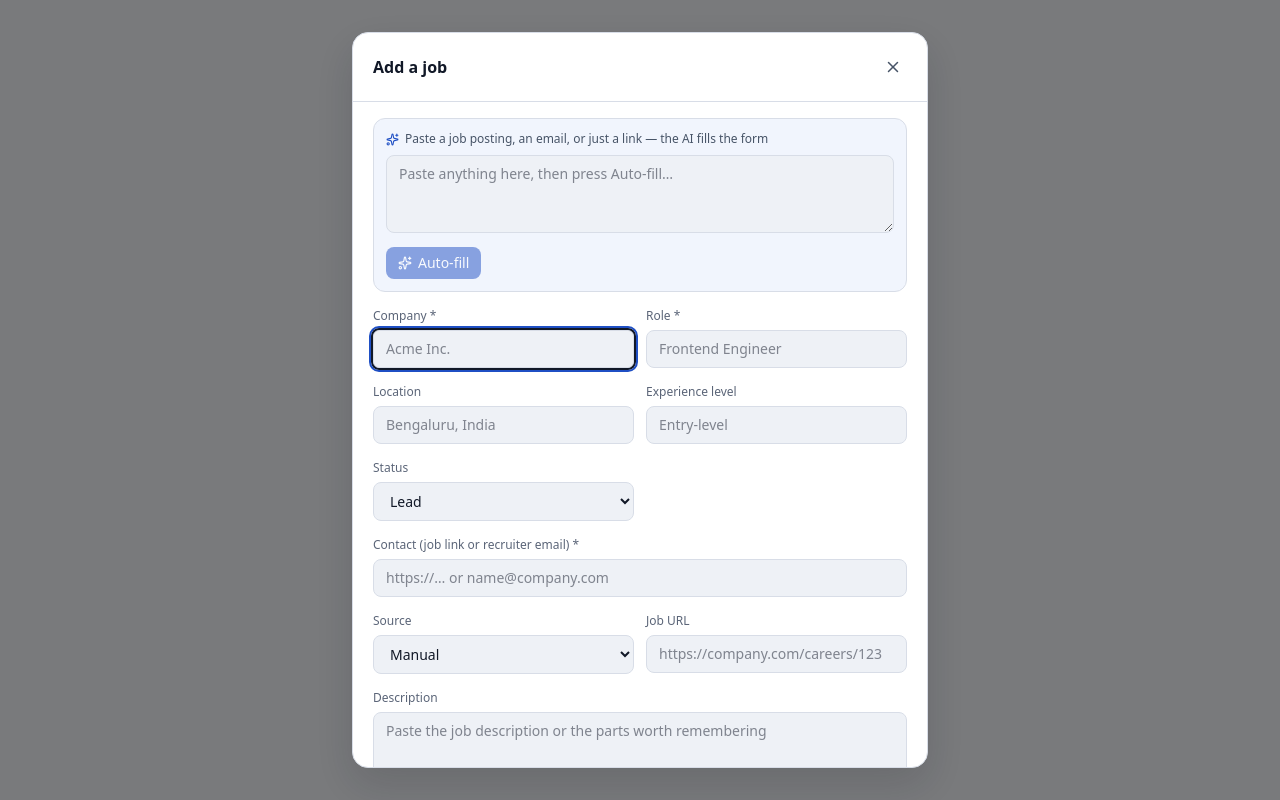
it: Add a job: a new lead needs a company, a role and a link or email › refuses a Job URL that is not a full link (the database would reject it)
This screenshot has width=1280, height=800.
Type "Acme" into the field with placeholder "Acme Inc." at (504, 349), box [373,330,634,368]
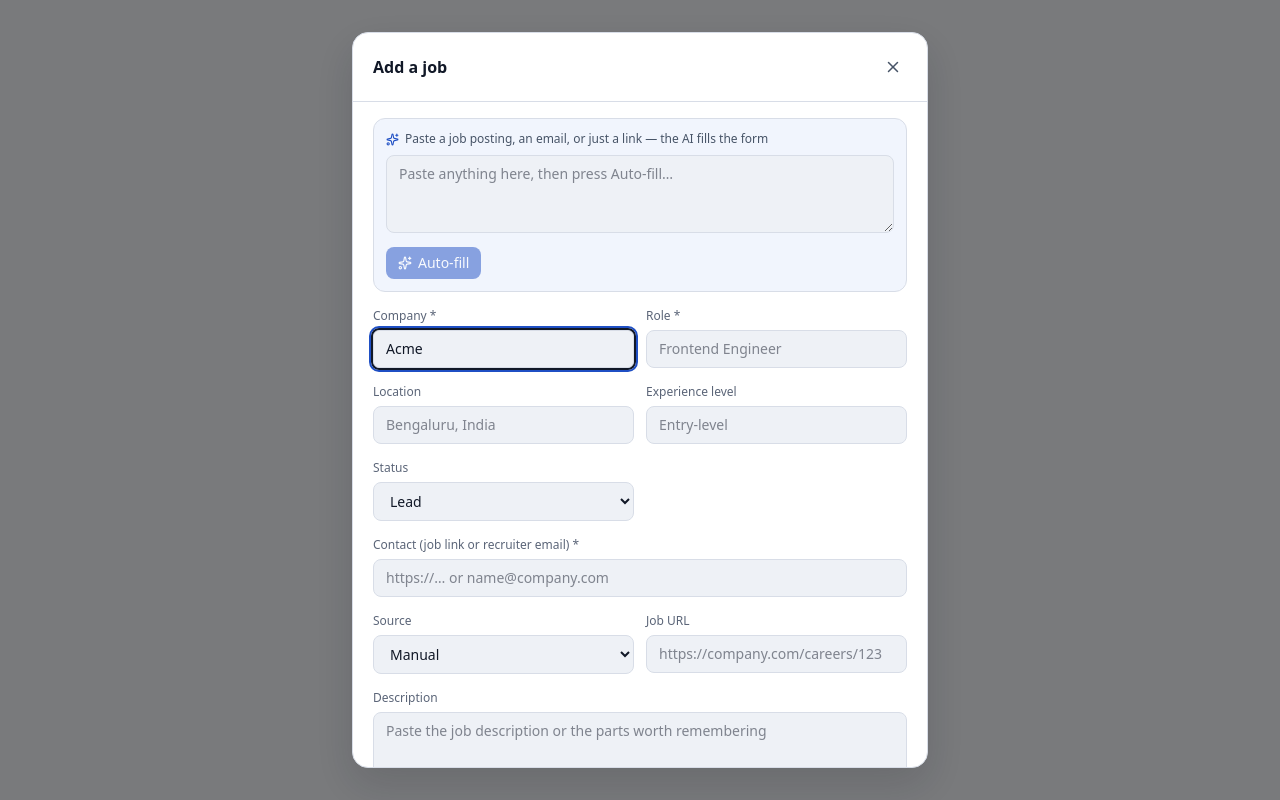
Type "Dev" into the field with placeholder "Frontend Engineer" at (776, 349), box [646,330,907,368]
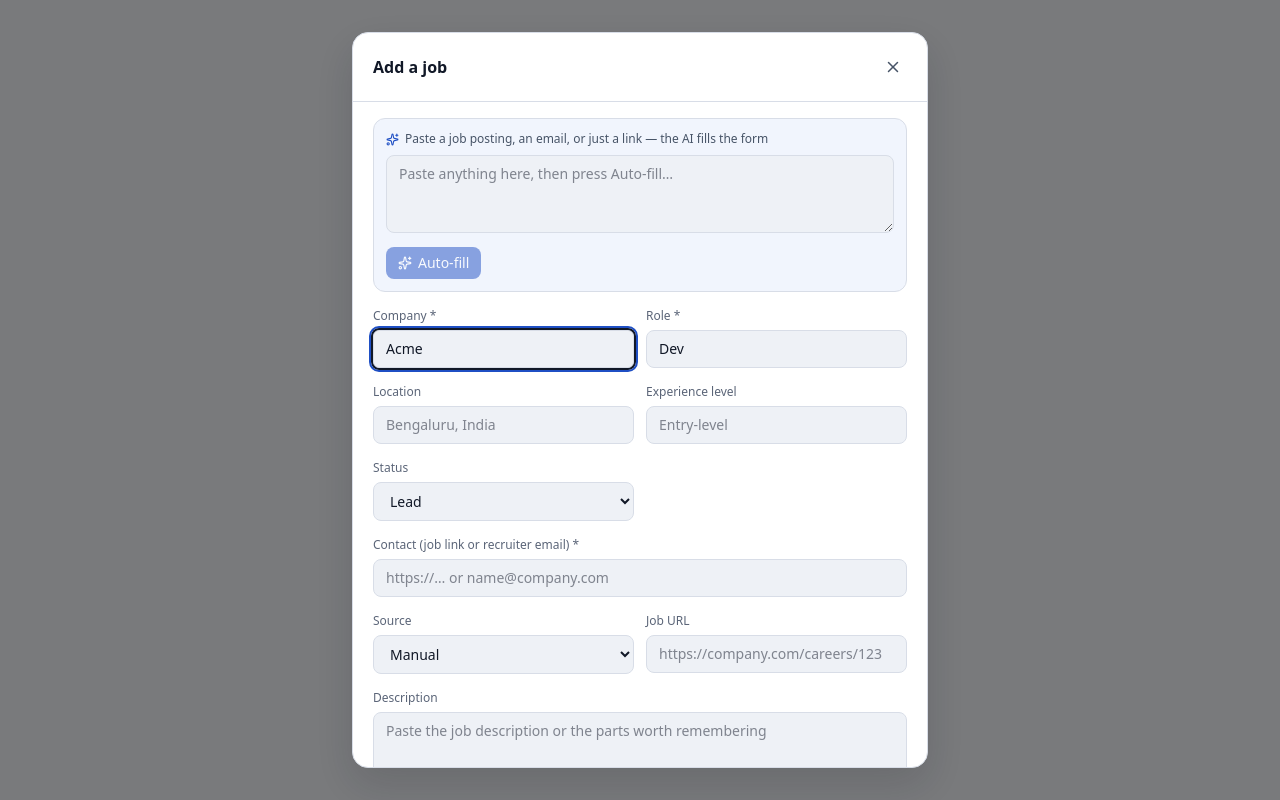
Type "hr@acme.com" into the field with placeholder "https://… or name@company.com" at (640, 578), box [373,559,907,597]
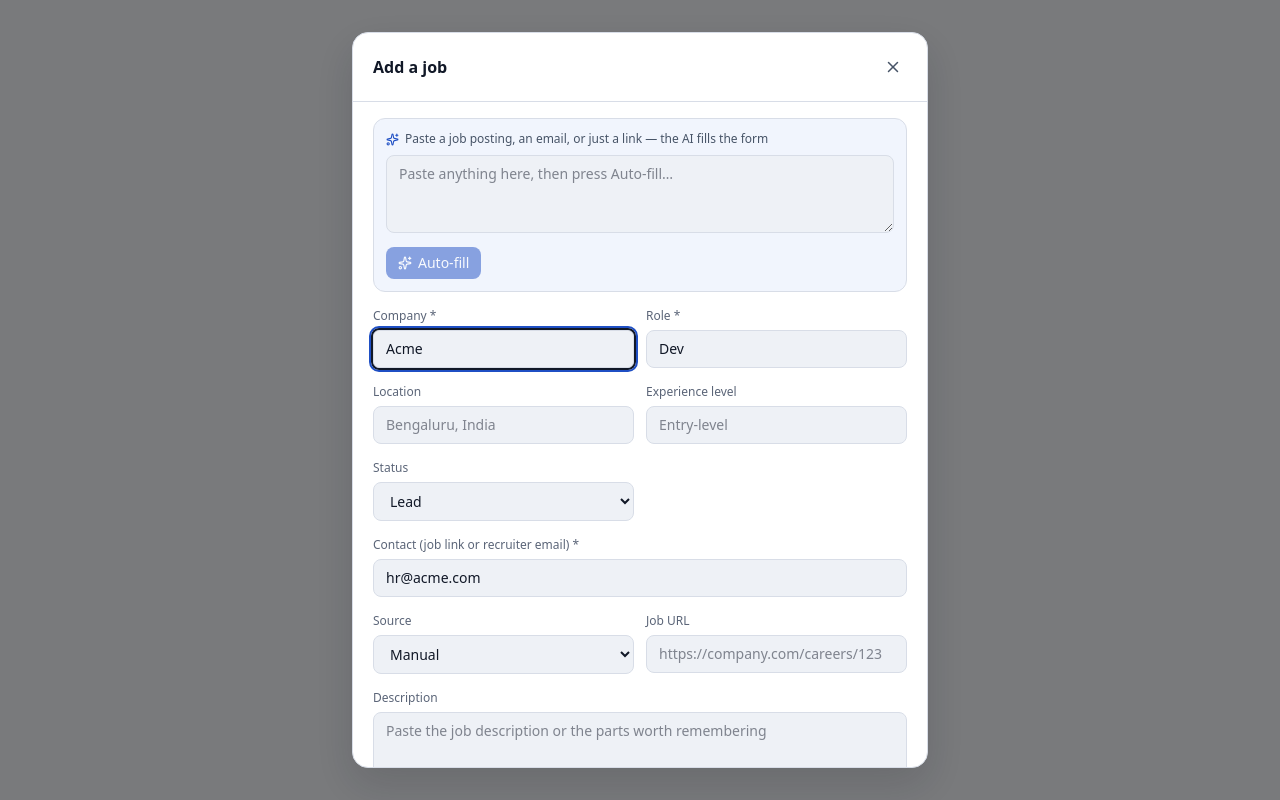
Type "acme.com/jobs" into the field with placeholder "https://company.com/careers/123" at (776, 654), box [646,635,907,673]
(page scrolled)
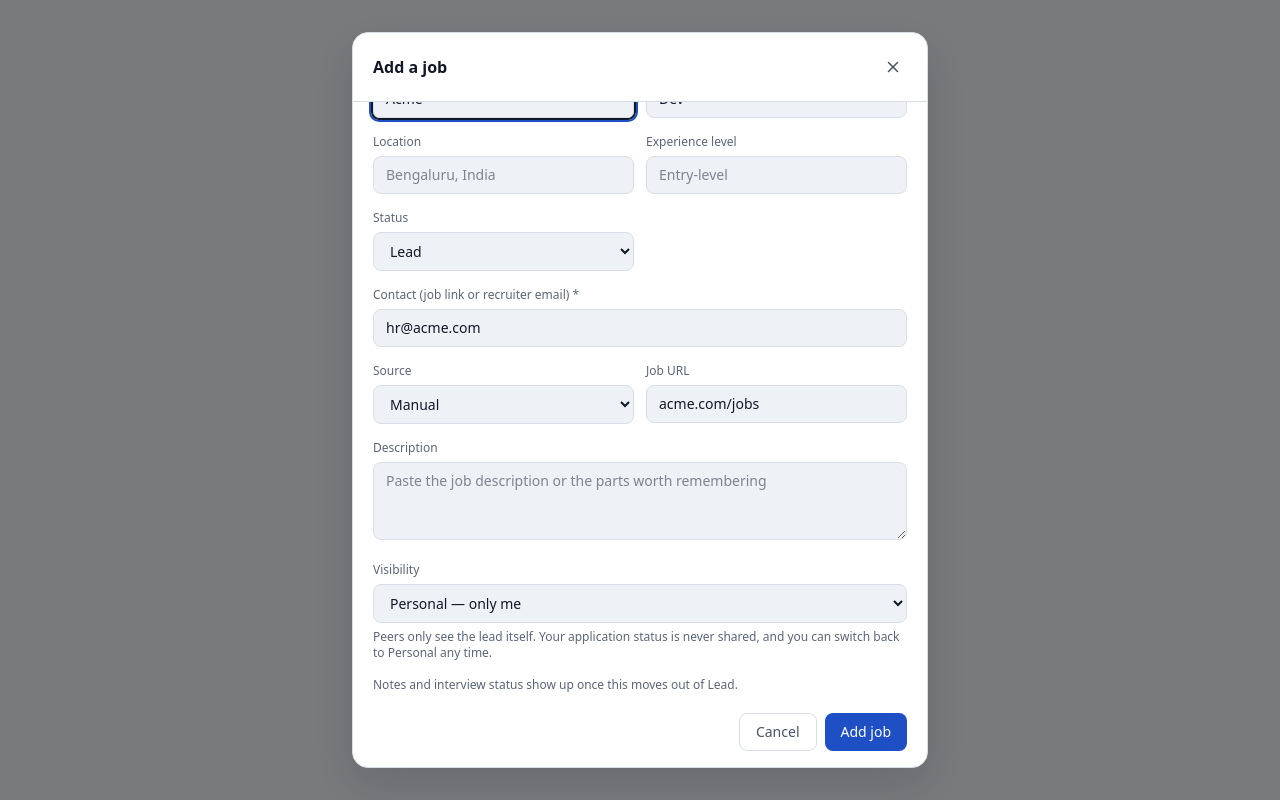
Click the button "Add job" at (866, 732), box [824,713,907,751]
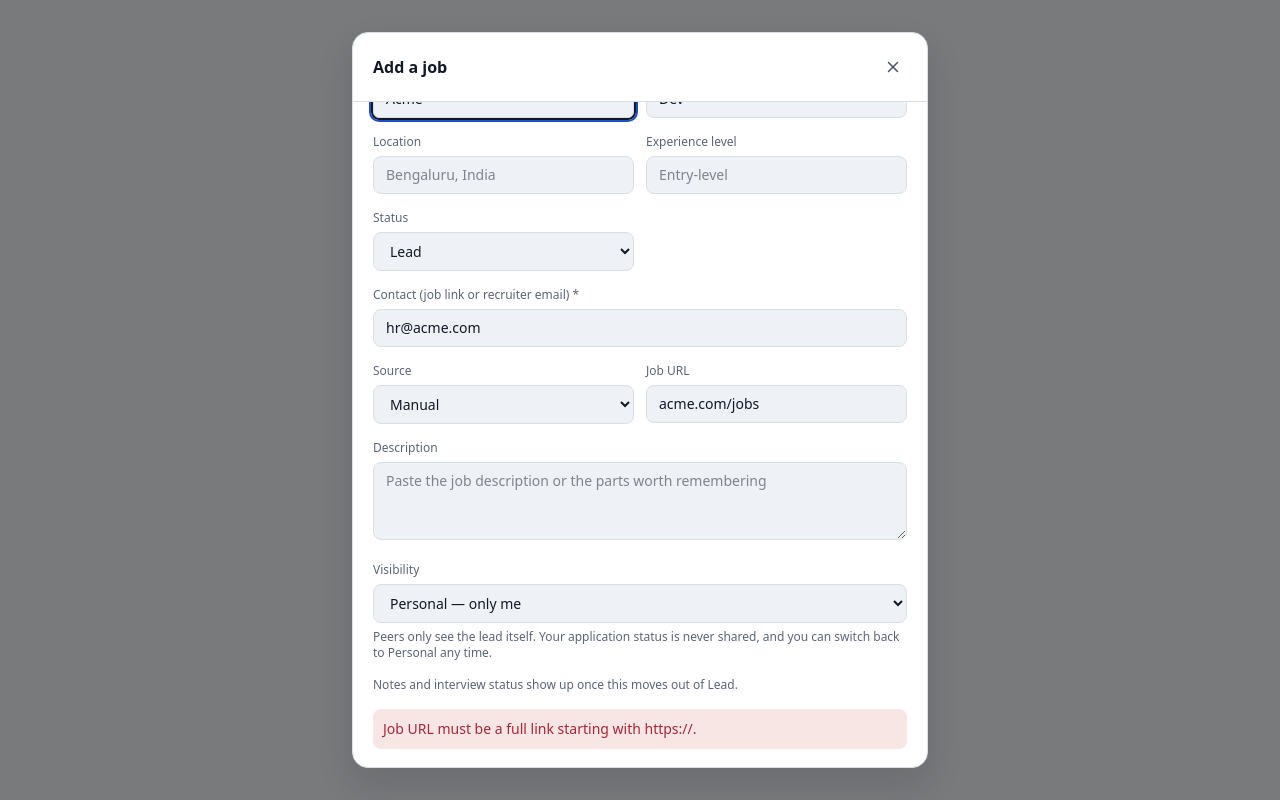
Check: the message shows "Job URL must be a full link", box [383,719,696,738]
